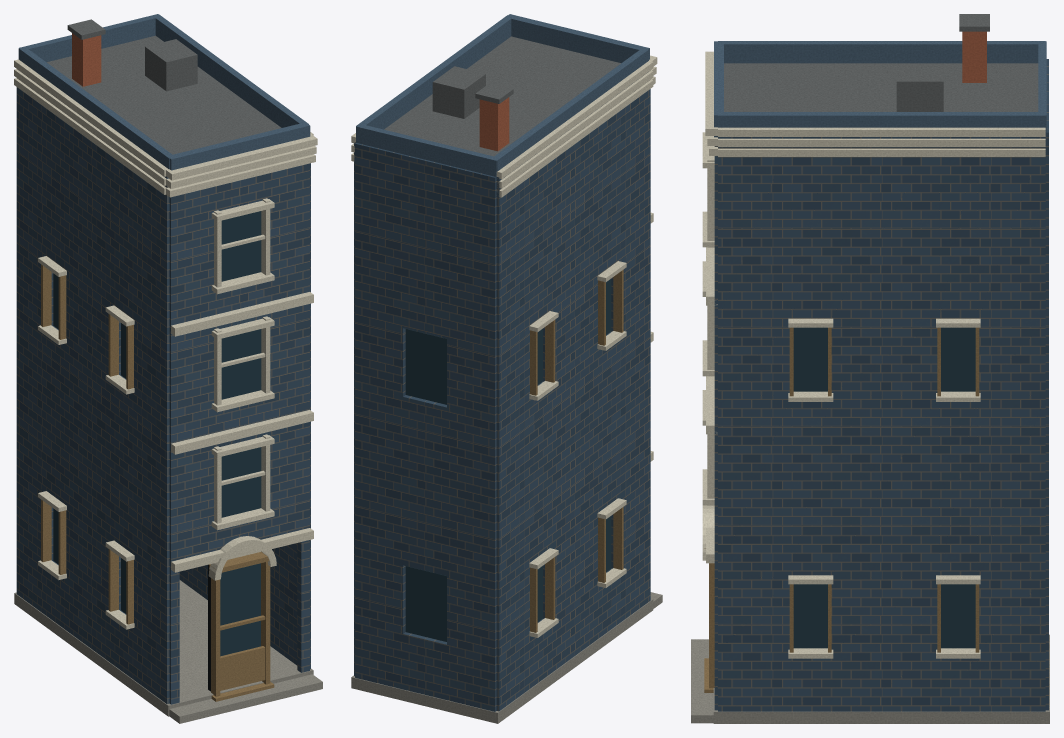
The model's file is OFFC5_lod2.glb.
The picture shows the model from 3 angles, left to right: view 1: azimuth 30°, elevation 25°; view 2: azimuth 150°, elevation 25°; view 3: azimuth 270°, elevation 25°; orthographic projection. The views are drawn at different scales.
Visible parts, largest first — view 1: OFFC5_LOD2; view 2: OFFC5_LOD2; view 3: OFFC5_LOD2.
Part boxes in pixels (<box>): OFFC5_LOD2: <box>14,14,322,723</box>; OFFC5_LOD2: <box>351,14,662,723</box>; OFFC5_LOD2: <box>691,14,1049,723</box>.
Size of the model in its own units: 3.71 by 13.05 by 6.57.
9 materials, 7 textured.
